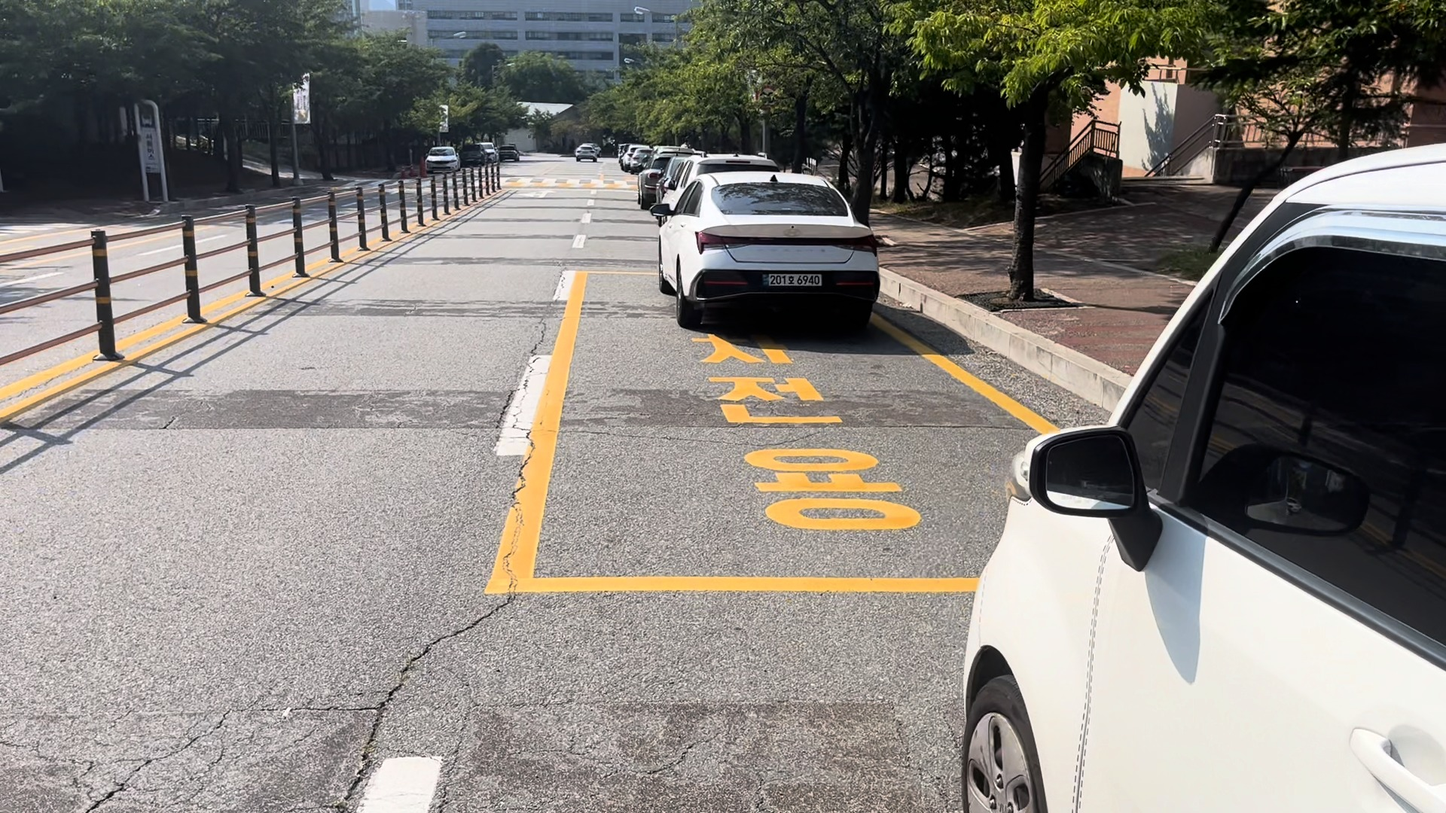door_handle: (1351, 728, 1445, 812)
side_mirror: (1030, 428, 1145, 514)
tail_light: (697, 232, 878, 253)
